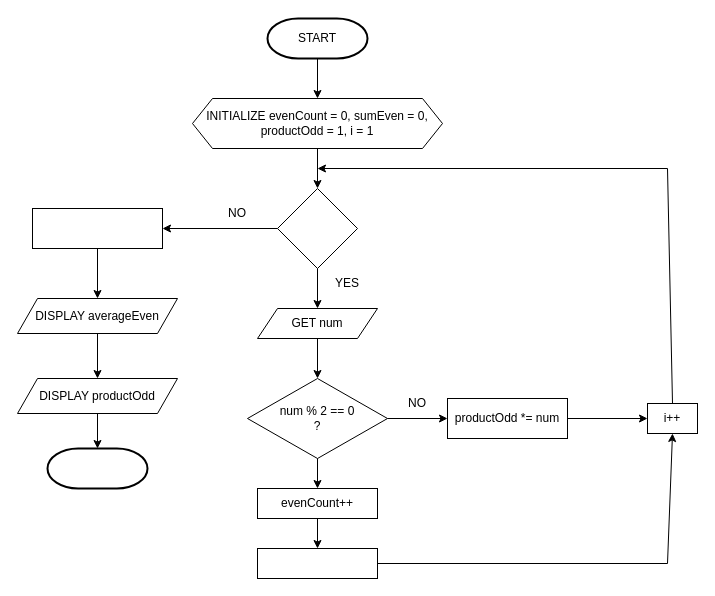
The diagram is 715 pixels wide and 596 high, and some of its shapes have lost their labels. The shapes that lost their labels are listed below. From the top down, each one's centre as x and y in pixels, then its label:
At point 97,228: "averageEven = sumEven / evenCount".
At point 317,228: "i <= 10 ?".
At point 97,468: "STOP".
At point 317,563: "sumEven += num".
